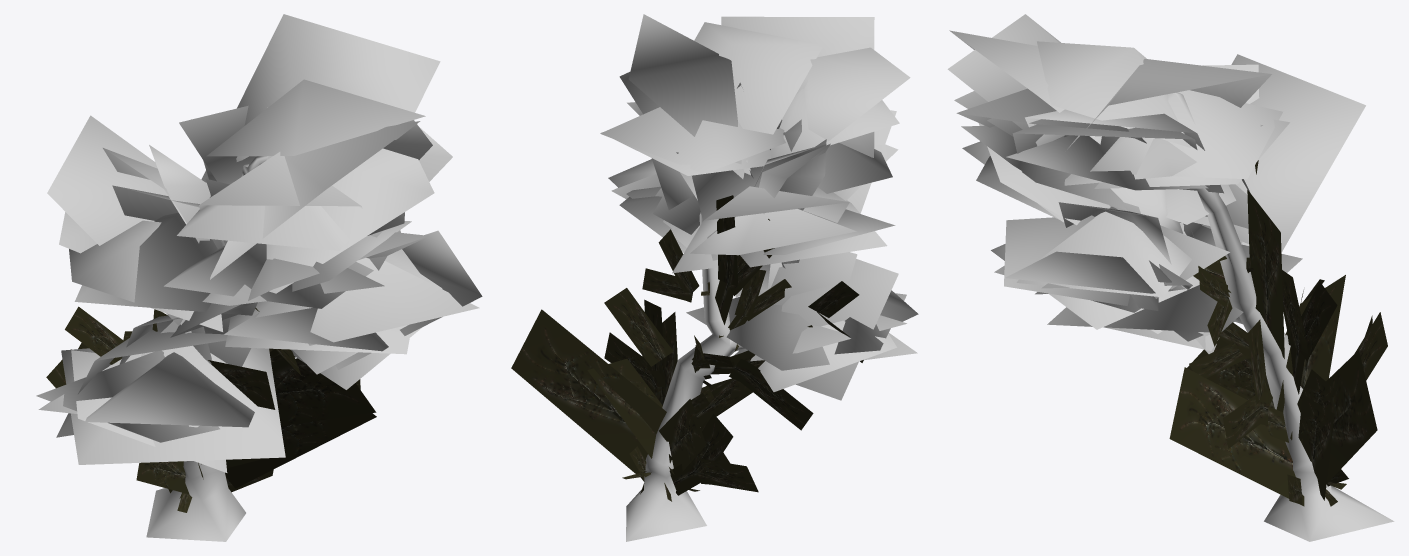
File: Tree5LOD1.FBX
3 renders of one model, left to right at view 1: azimuth 30°, elevation 25°; view 2: azimuth 150°, elevation 25°; view 3: azimuth 270°, elevation 25°, orthographic. The views are drawn at different scales.
Parts seen in each view (by area): view 1: Tree5LOD1; view 2: Tree5LOD1; view 3: Tree5LOD1.
Part boxes in pixels (x1,y1,x2,y2): Tree5LOD1: (36, 14, 482, 541); Tree5LOD1: (511, 14, 918, 541); Tree5LOD1: (947, 14, 1394, 541).
Bounding box in the file's own units: 294 × 379 × 322.
